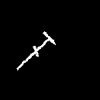double_crochet: (17, 32, 55, 69)
